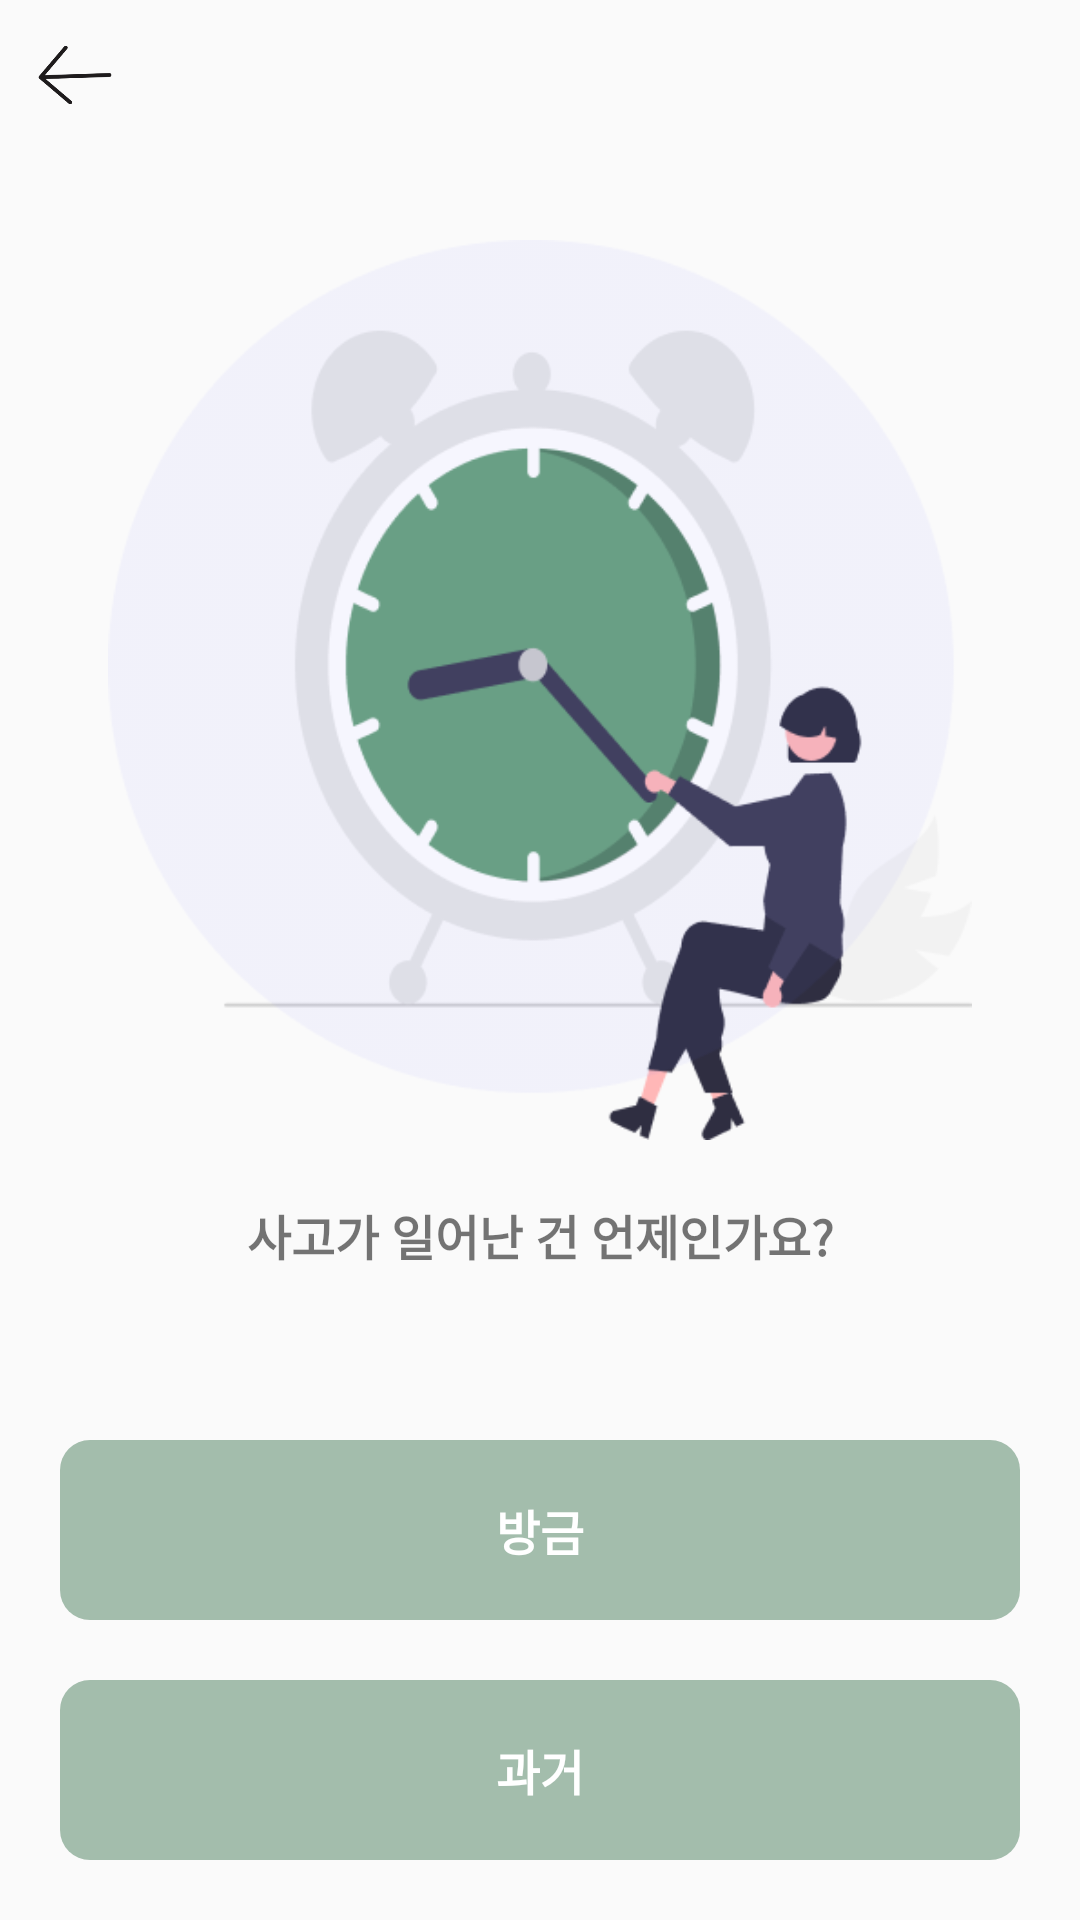

Named icons in this screenshot (1080*1920) and their centers, (x,y):
back arrow: (75,75)
